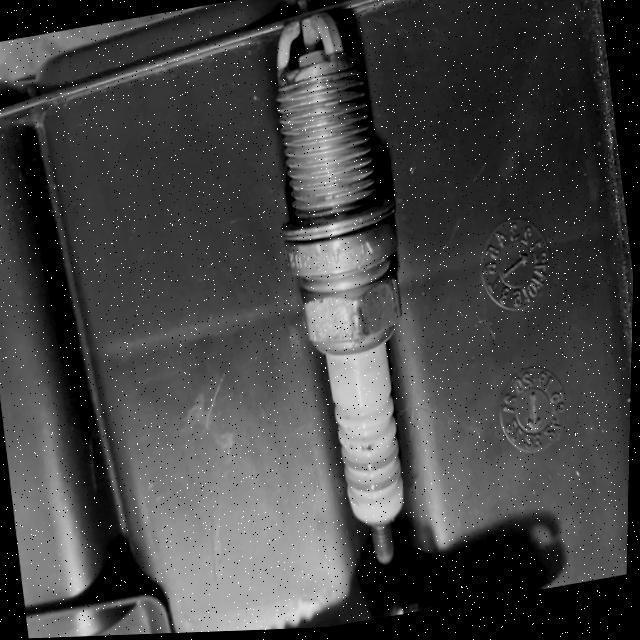spark-plug: (241, 0, 460, 599)
